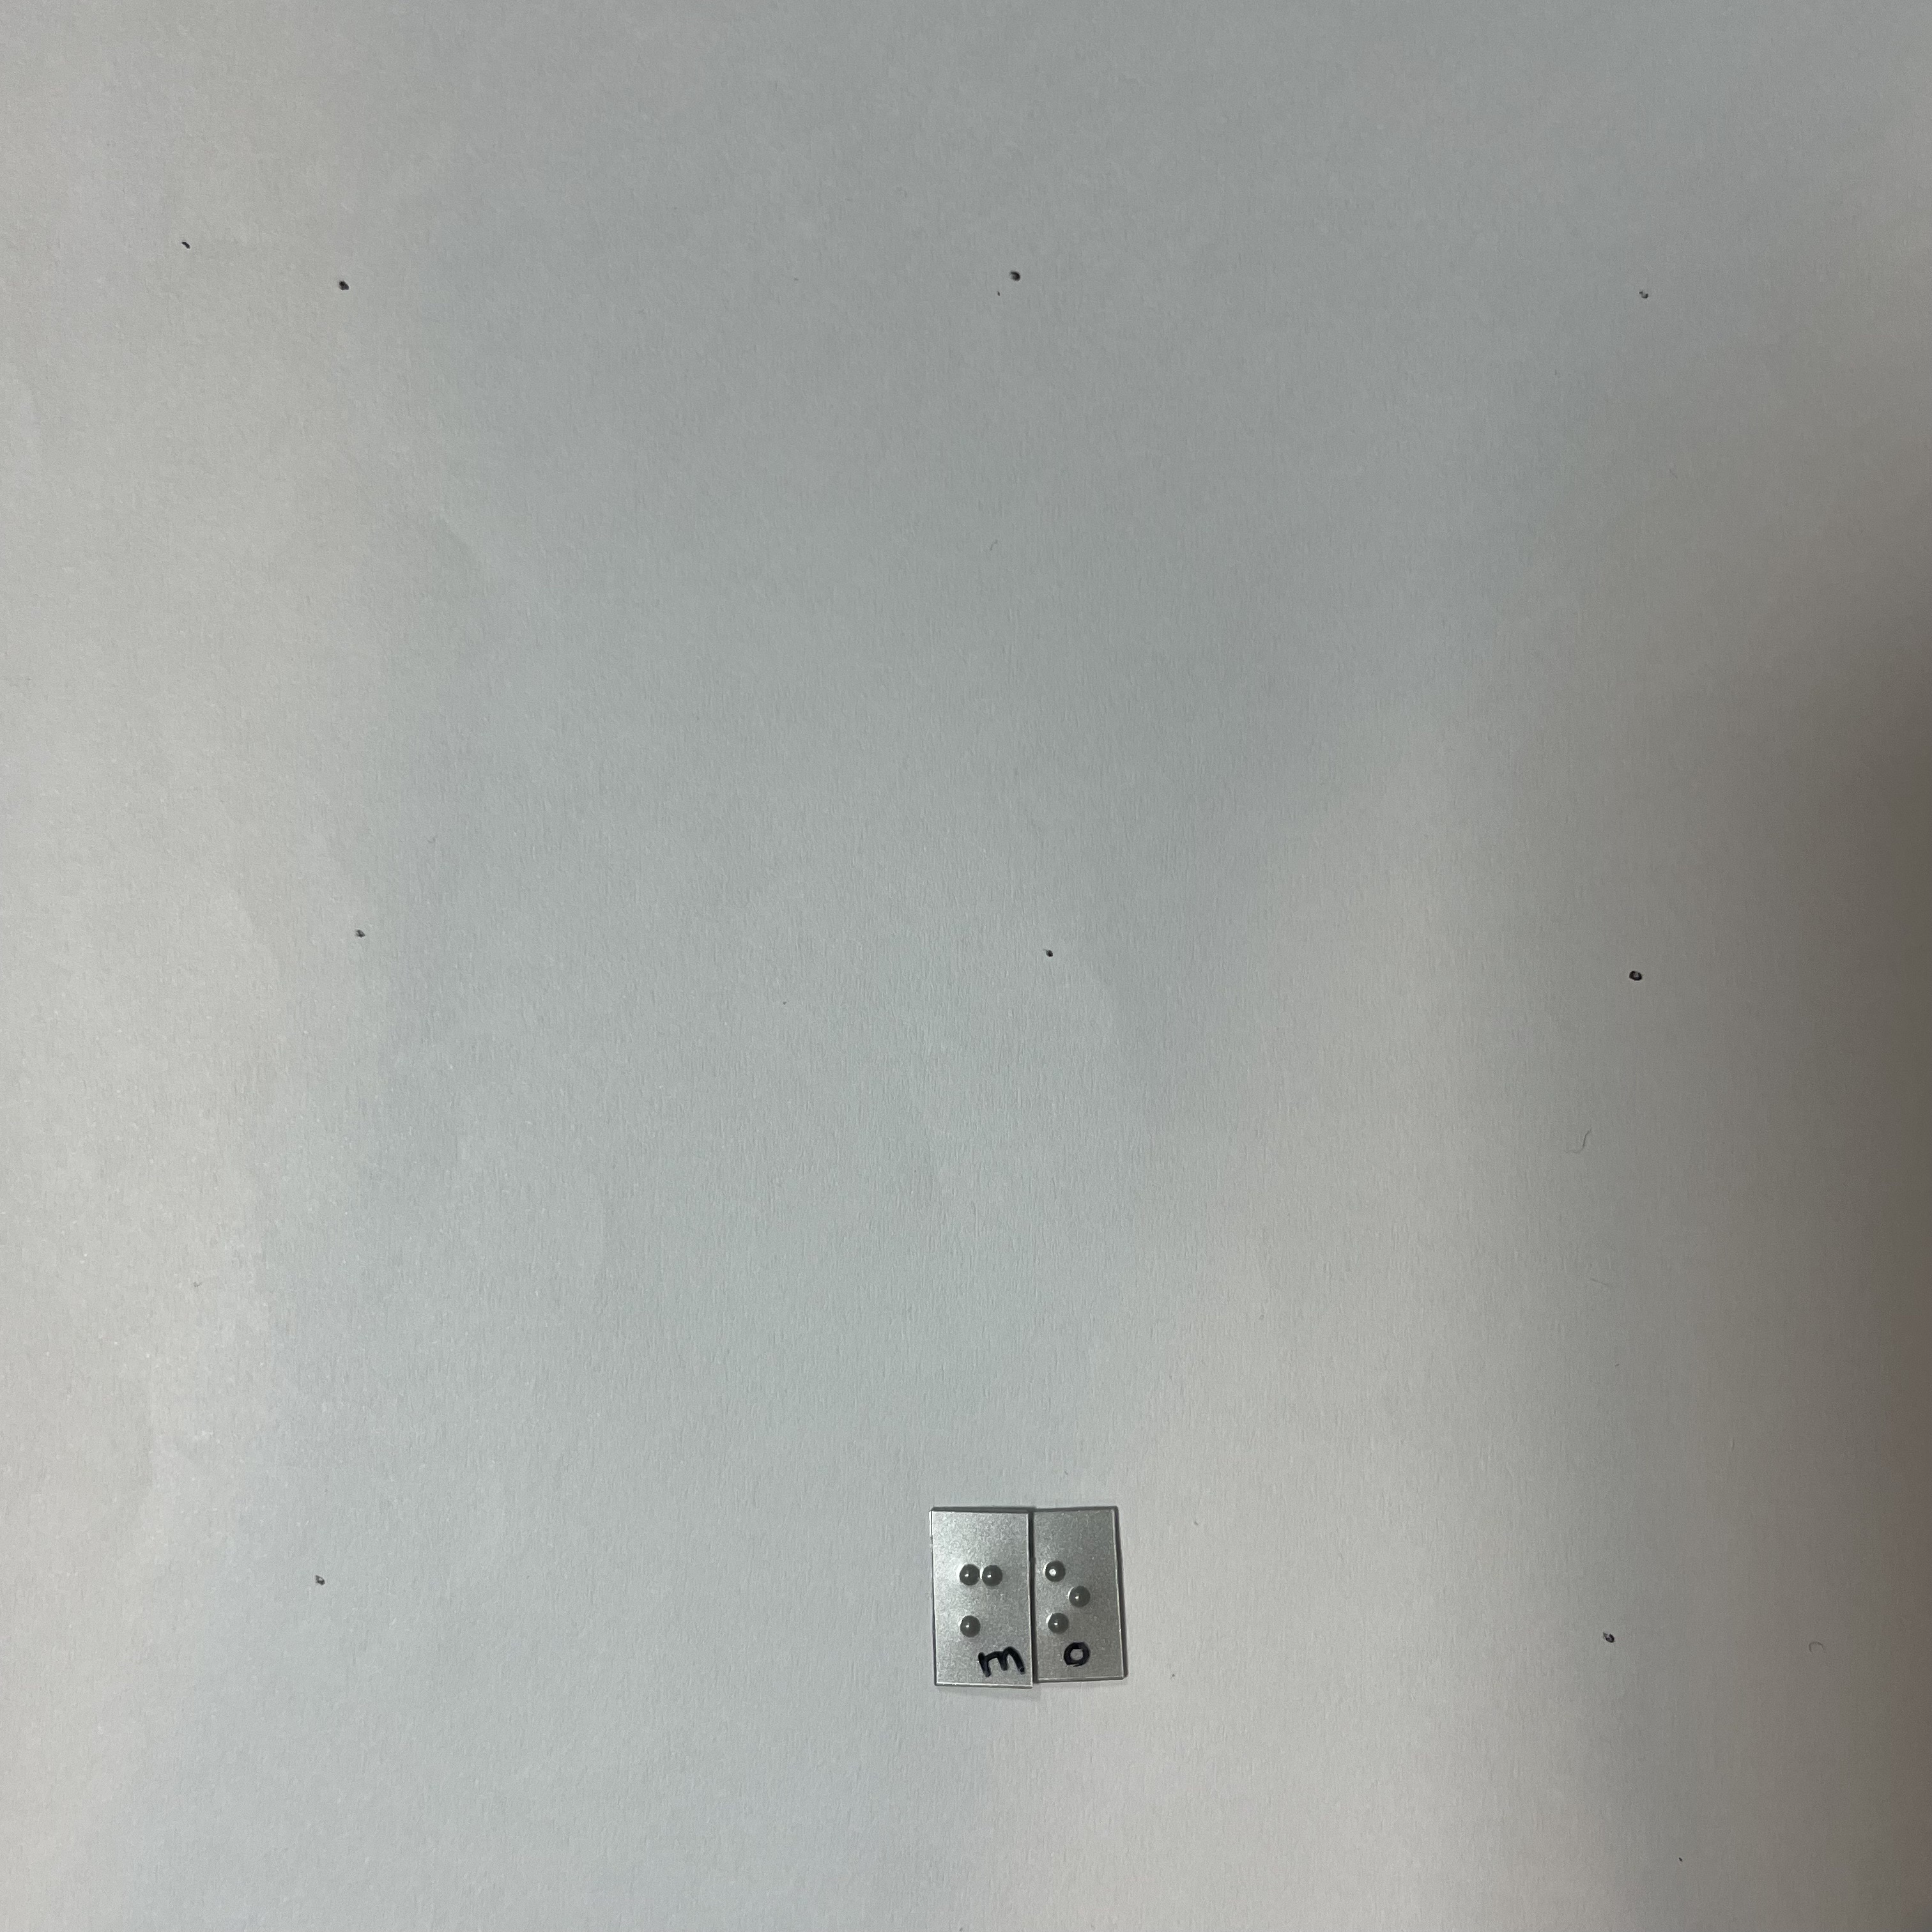m: (952, 1549, 1008, 1634)
o: (1038, 1546, 1100, 1639)
